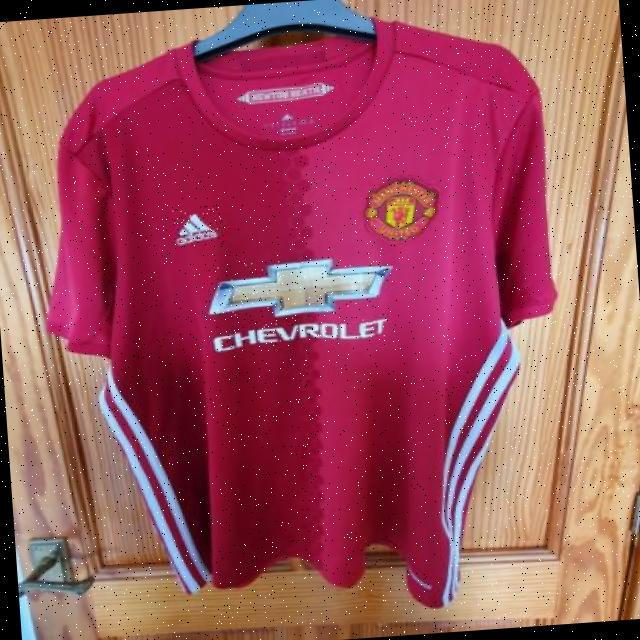Adidas: (172, 205, 223, 247)
Chevrolet: (208, 251, 397, 352)
